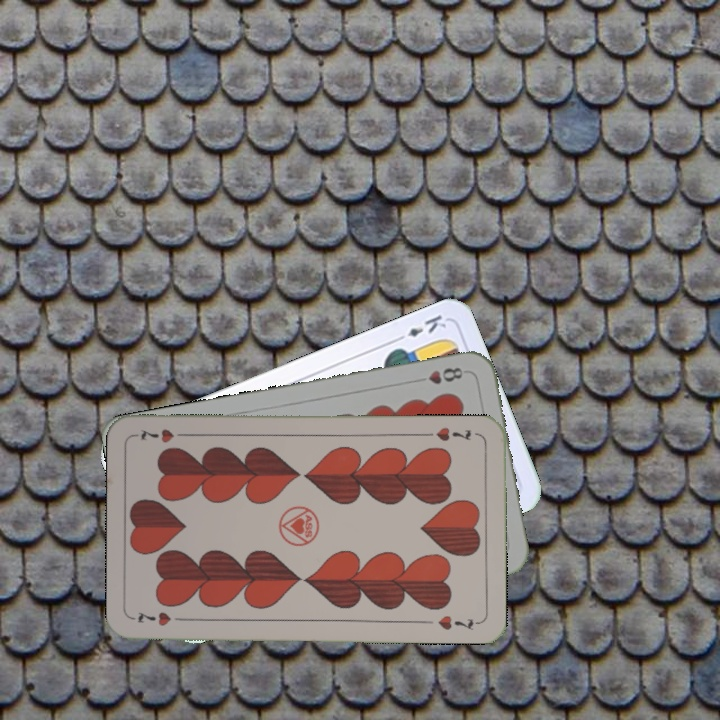EK: (391, 310, 449, 345)
H7: (131, 608, 190, 629), (433, 423, 474, 444)
H8: (411, 363, 466, 387)
